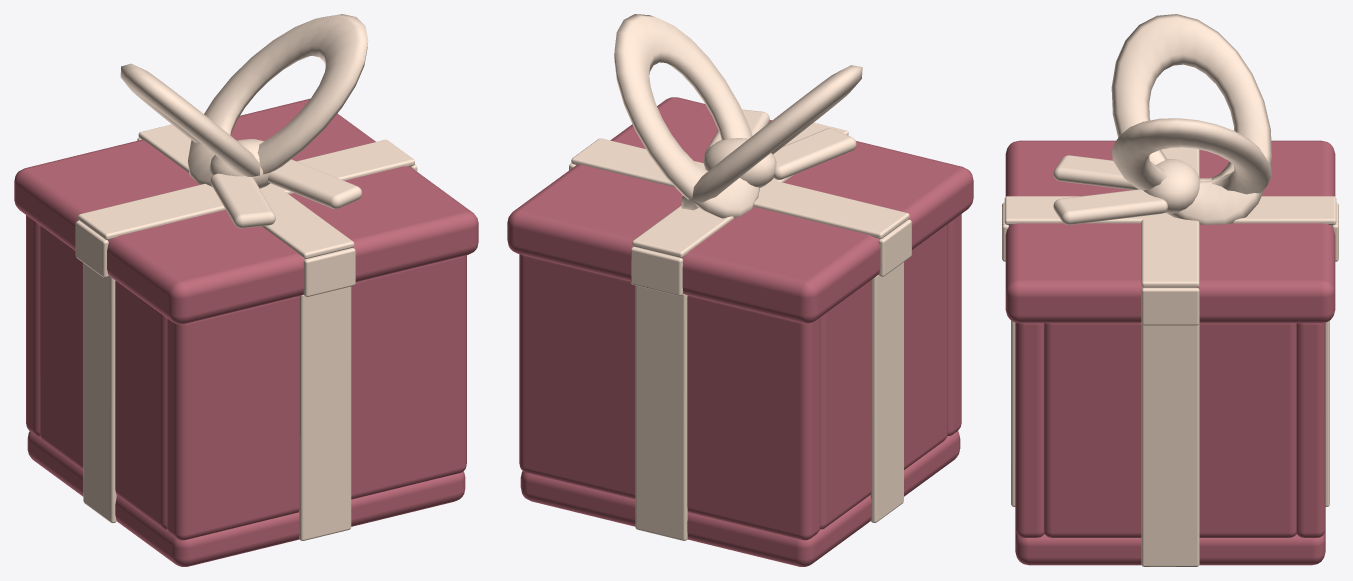
File: gift-rose-1.glb
3 views of the same model, side by side, from view 1: azimuth 30°, elevation 25°; view 2: azimuth 150°, elevation 25°; view 3: azimuth 270°, elevation 25° (orthographic).
Visible parts, largest first — view 1: Gift_Body, Gift_Lid, Gift_Bow_Loop_R, Gift_Bow, Gift_Bow_Loop_L; view 2: Gift_Body, Gift_Lid, Gift_Bow_Loop_R, Gift_Bow_Loop_L, Gift_Bow; view 3: Gift_Body, Gift_Lid, Gift_Bow_Loop_L, Gift_Bow_Loop_R, Gift_Bow.
Part boxes in pixels (x1,y1,x2,y2): Gift_Body: (26, 215, 466, 566); Gift_Lid: (14, 98, 478, 324); Gift_Bow_Loop_R: (187, 14, 368, 186); Gift_Bow: (209, 139, 362, 228); Gift_Bow_Loop_L: (120, 63, 260, 176); Gift_Body: (519, 214, 961, 566); Gift_Lid: (507, 97, 973, 323); Gift_Bow_Loop_R: (614, 14, 759, 218); Gift_Bow_Loop_L: (681, 65, 862, 210); Gift_Bow: (703, 109, 856, 188); Gift_Body: (1011, 320, 1329, 566); Gift_Lid: (1002, 140, 1338, 325); Gift_Bow_Loop_L: (1111, 14, 1271, 224); Gift_Bow_Loop_R: (1111, 118, 1271, 194); Gift_Bow: (1053, 155, 1200, 224).
Bounding box in the file's own units: 0.928 × 1.23 × 0.868.
